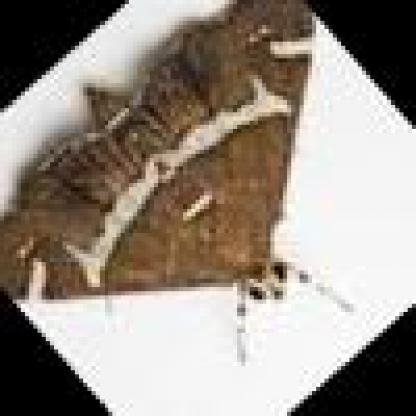Leaf Webber: (0, 0, 314, 305)
